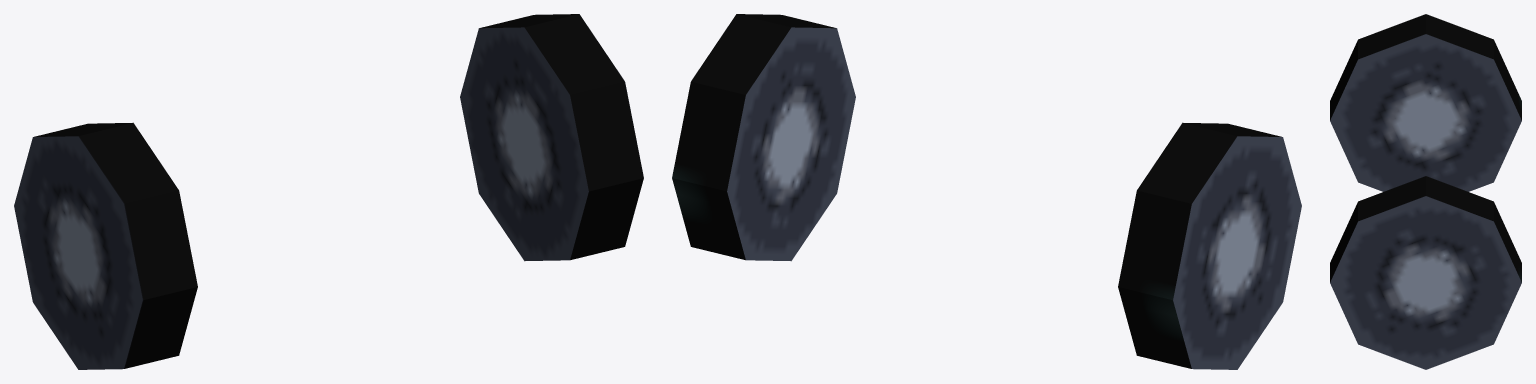
The model's file is classic_van_wheels_f.obj.
3 views of the same model, side by side, from view 1: azimuth 30°, elevation 25°; view 2: azimuth 150°, elevation 25°; view 3: azimuth 270°, elevation 25° (orthographic). The views are drawn at different scales.
Parts seen in each view (by area): view 1: classic_van_wheels_f; view 2: classic_van_wheels_f; view 3: classic_van_wheels_f.
Boxes of the visible parts, <box> form: classic_van_wheels_f: <box>14,14,643,369</box>; classic_van_wheels_f: <box>672,14,1301,369</box>; classic_van_wheels_f: <box>1330,14,1521,369</box>.
Size of the model in its own units: 1.56 by 0.6965 by 0.6965.
1 material, 1 textured.
